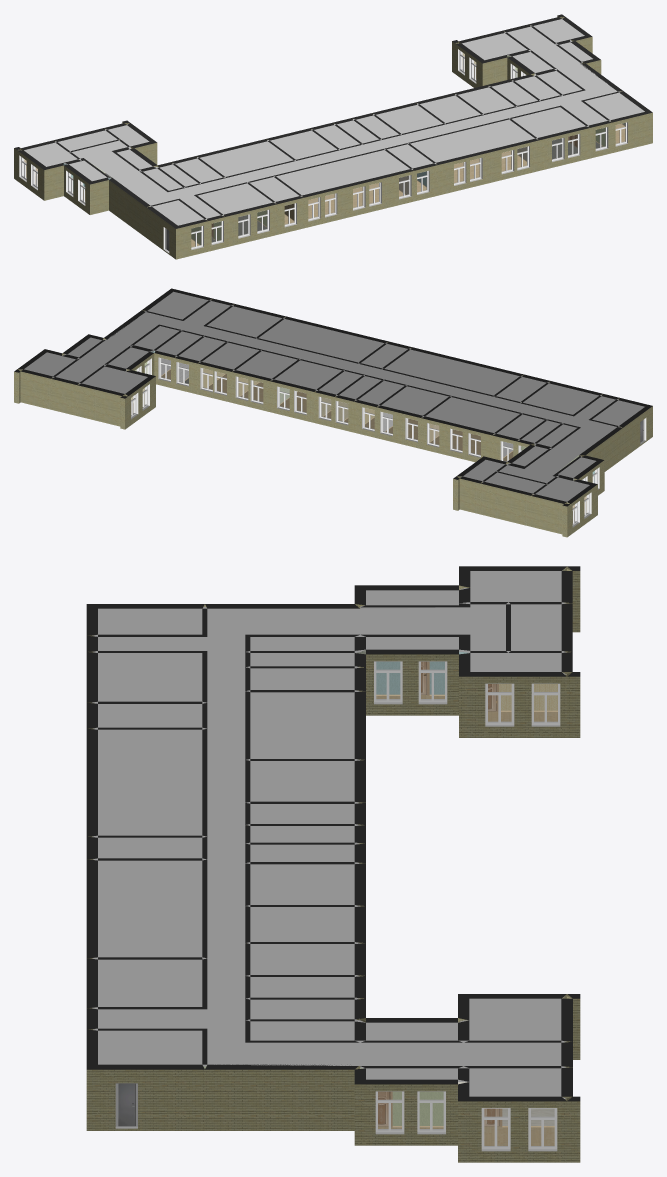
The model's file is floor4.fbx.
3 views of the same model, one above another, from view 1: azimuth 30°, elevation 25°; view 2: azimuth 150°, elevation 25°; view 3: azimuth 270°, elevation 25° (orthographic). The views are drawn at different scales.
Size of the model in its own units: 50.53 by 2.7 by 19.72.
30 materials, 25 textured.
